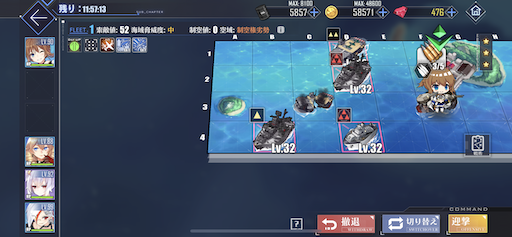lv1: (250, 109, 296, 152)
lv3: (336, 108, 383, 152), (330, 52, 373, 93)
